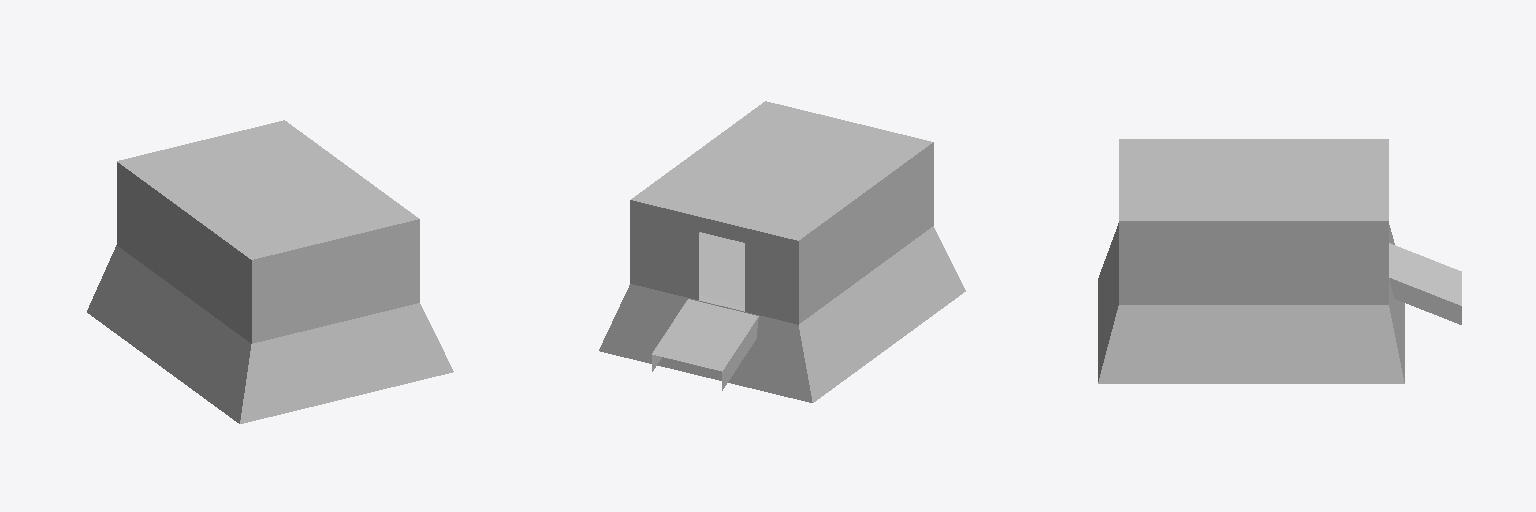
Rendered from collisions_smallHouse1.obj.
The picture shows the model from 3 angles: view 1: azimuth 30°, elevation 25°; view 2: azimuth 150°, elevation 25°; view 3: azimuth 270°, elevation 25°; orthographic projection.
Visible parts, largest first — view 1: Cube.001; view 2: Cube.001; view 3: Cube.001.
Boxes of the visible parts, x1,y1,x2,y2 form: Cube.001: [87, 120, 453, 423]; Cube.001: [599, 101, 965, 402]; Cube.001: [1098, 139, 1461, 383].
Bounding box in the file's own units: 8.68 × 5.85 × 12.77.